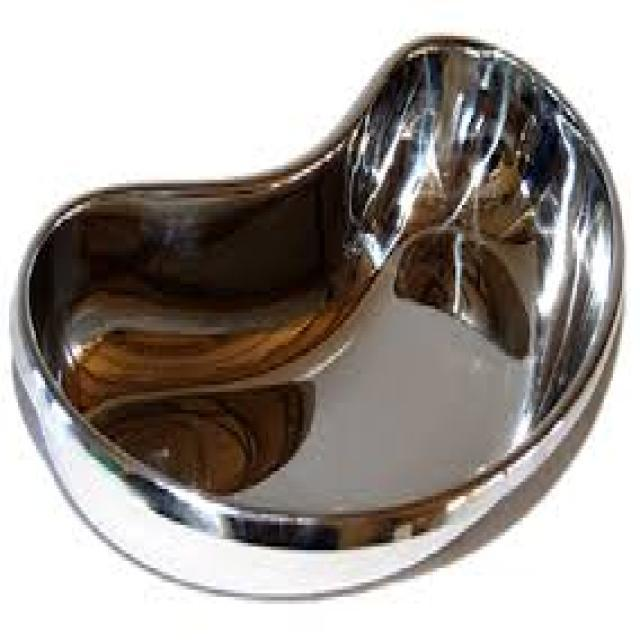Kidney Tray: (26, 33, 620, 600)
